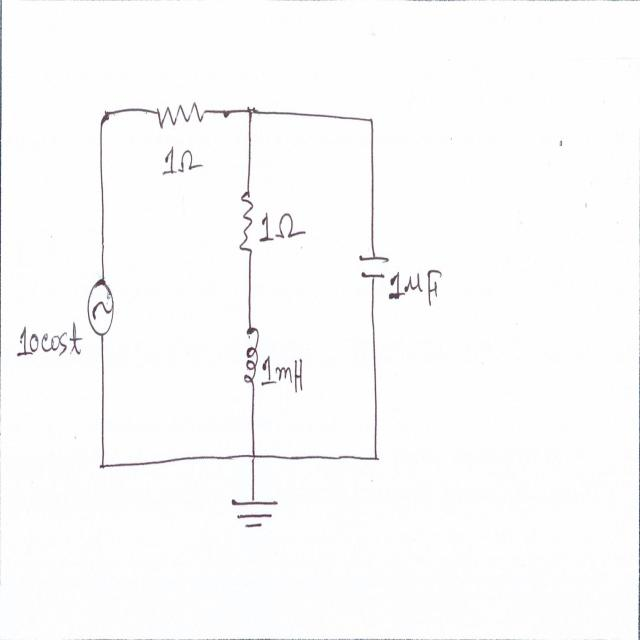ac_current: (86, 273, 117, 345)
capacitor: (357, 249, 391, 284)
ground: (228, 496, 282, 533)
inductor: (242, 320, 260, 391)
resistor: (154, 100, 207, 131), (238, 184, 256, 261)
